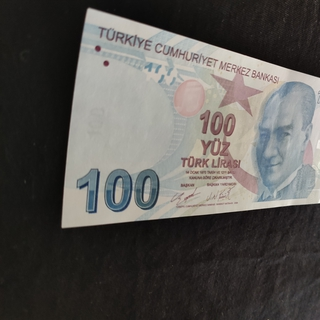100TLFront: (60, 6, 320, 229)
